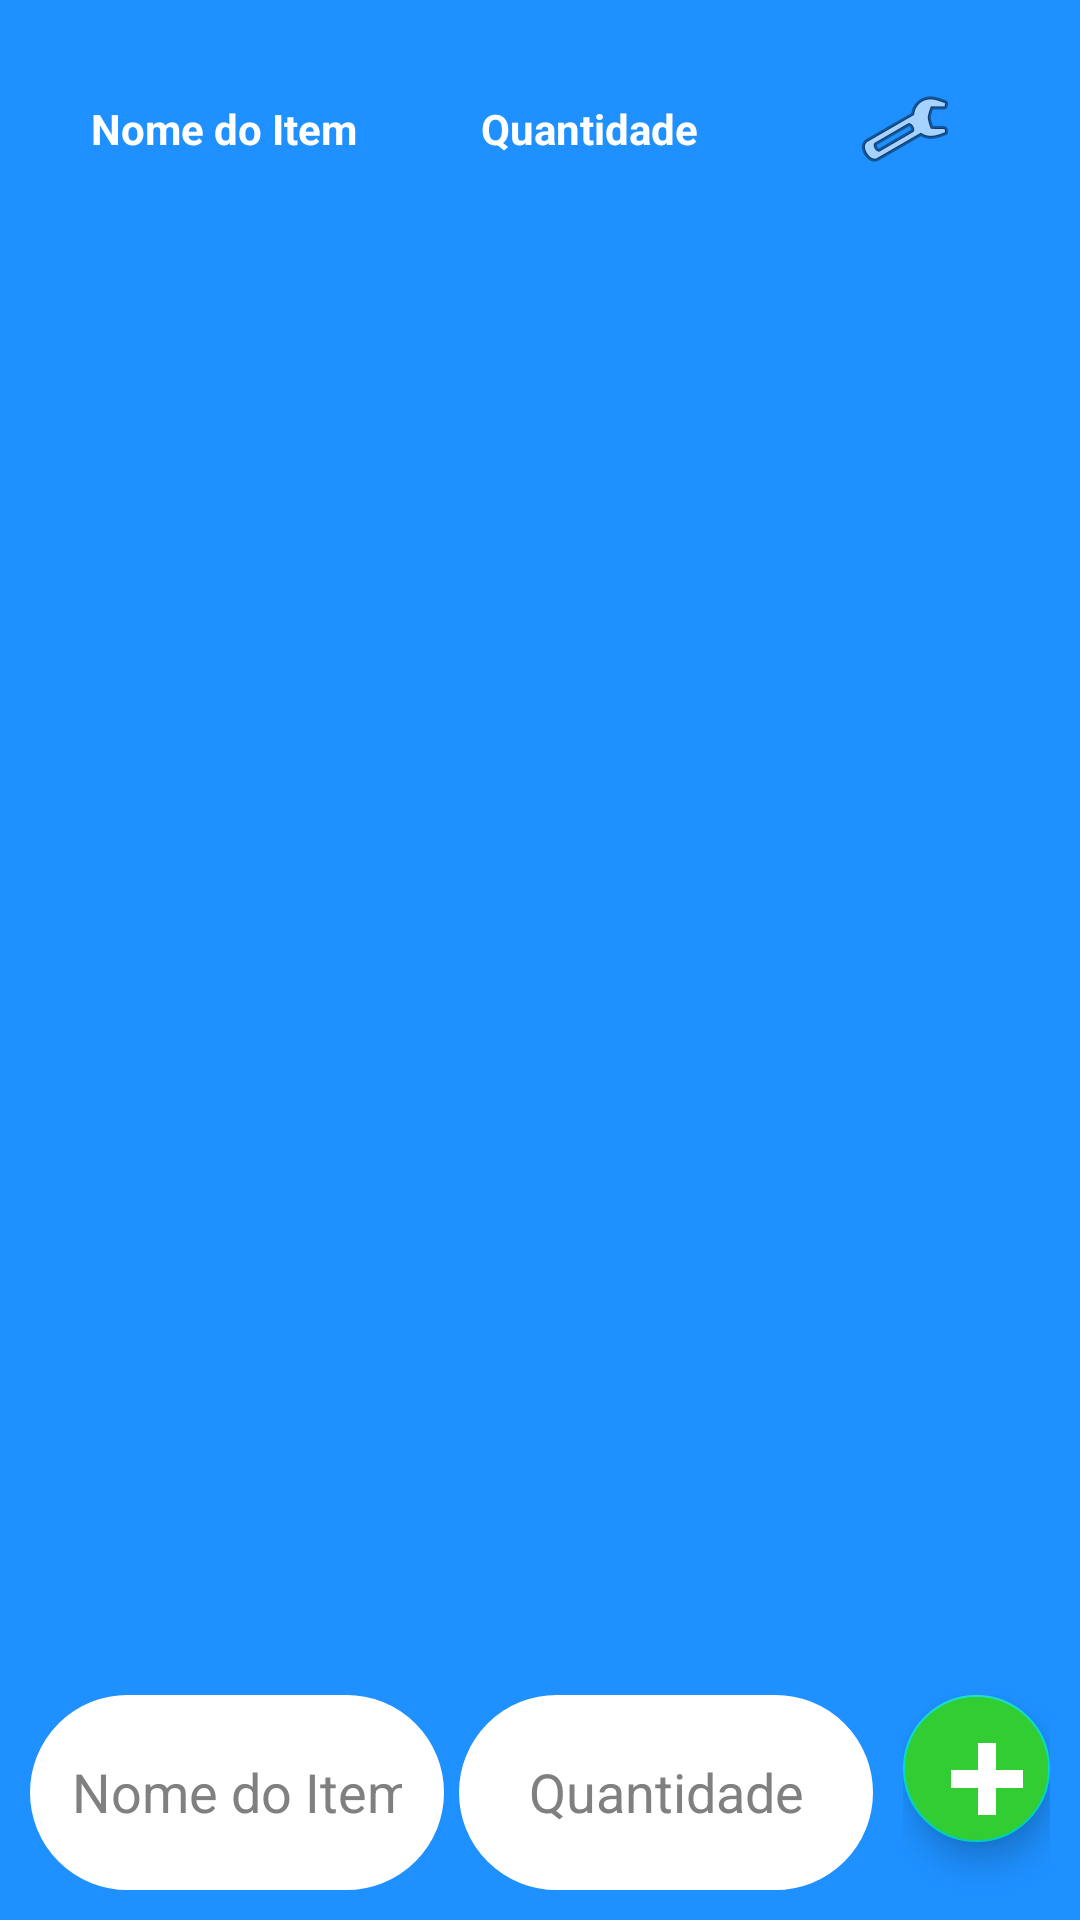

Icon click points for this 1080 x 1920 phone screenshot, format [x,y]:
mais: [976,1768]
manage: [905,129]
